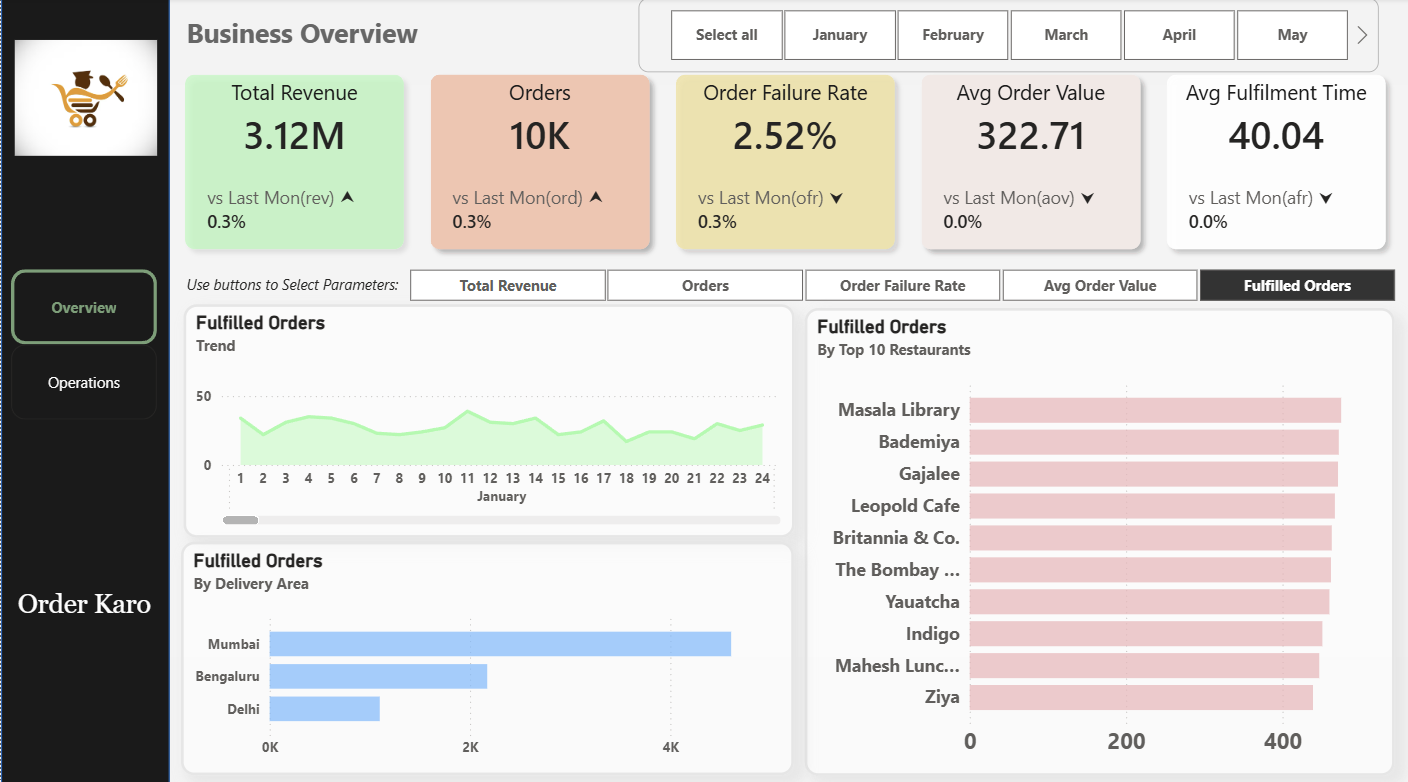

Layout of this report page (visuals, bound fields, positions):
{"tool":"powerbi","page":{"name":"Overview","canvas":[1280,720],"ordinal":0},"visuals":[{"type":"shape","box":[0,0,152.6,720.2],"z":0,"group":"g1"},{"type":"group","id":"g1","title":"Group 1","box":[0,0,152.6,720.2],"z":0},{"type":"cardVisual","fields":{"Data":["fooddelivery orders.Total Revenue","fooddelivery orders.Total Orders","fooddelivery orders.Order Failure Rate","fooddelivery orders.Avg Order Value","fooddelivery deliveries.Avg Fulfilment Time"]},"box":[142.5,45.2,1137.4,206.9],"z":1000},{"type":"lineChart","fields":{"Category":["DateTable.Date.Variation.Date Hierarchy.Month","DateTable.Date.Variation.Date Hierarchy.Day"],"Y":["fooddelivery orders.Total Revenue"]},"box":[164.7,277.2,553,211.5],"z":2000},{"type":"slicer","fields":{"Values":["Parameters:.Parameters:"]},"box":[349.4,238.6,930.5,41.8],"z":3000},{"type":"barChart","fields":{"Category":["fooddelivery restaurants.restaurant_name"],"Y":["fooddelivery orders.Total Revenue"]},"box":[727,280.4,533.7,422.9],"z":4000},{"type":"barChart","fields":{"Category":["fooddelivery restaurants.city"],"Y":["fooddelivery orders.Total Revenue"]},"box":[162.8,491.8,554,211.4],"z":5000},{"type":"textbox","box":[162.8,245.4,211.4,28.3],"z":6000},{"type":"textbox","box":[162.7,10.3,231.8,49.7],"z":7000},{"type":"image","box":[12.4,20.4,128.9,140.2],"z":8000},{"type":"pageNavigator","box":[9,245.4,132.3,137.9],"z":8000,"group":"g1"},{"type":"textbox","box":[10.2,529.1,152.6,99.5],"z":9000},{"type":"slicer","fields":{"Values":["DateTable.Date.Variation.Date Hierarchy.Month"]},"box":[577.1,0,669.5,66.9],"z":9001}]}

Visuals, with their boxes in screenshot pixels (x1, y1, x2, y2), scaled from the page's 1280x720 canvas onto the 1408x782 screenshot:
shape: <bbox>0, 0, 168, 781</bbox>
"Group 1" group: <bbox>0, 0, 168, 781</bbox>
cardVisual - fooddelivery orders.Total Revenue x fooddelivery orders.Total Orders: <bbox>157, 49, 1407, 274</bbox>
lineChart - DateTable.Date.Variation.Date Hierarchy.Month x DateTable.Date.Variation.Date Hierarchy.Day: <bbox>181, 301, 789, 531</bbox>
slicer - Parameters:.Parameters:: <bbox>384, 259, 1407, 305</bbox>
barChart - fooddelivery restaurants.restaurant_name x fooddelivery orders.Total Revenue: <bbox>800, 305, 1387, 764</bbox>
barChart - fooddelivery restaurants.city x fooddelivery orders.Total Revenue: <bbox>179, 534, 788, 764</bbox>
textbox: <bbox>179, 267, 412, 297</bbox>
textbox: <bbox>179, 11, 434, 65</bbox>
image: <bbox>14, 22, 155, 174</bbox>
pageNavigator: <bbox>10, 267, 155, 416</bbox>
textbox: <bbox>11, 575, 179, 683</bbox>
slicer - DateTable.Date.Variation.Date Hierarchy.Month: <bbox>635, 0, 1371, 73</bbox>
